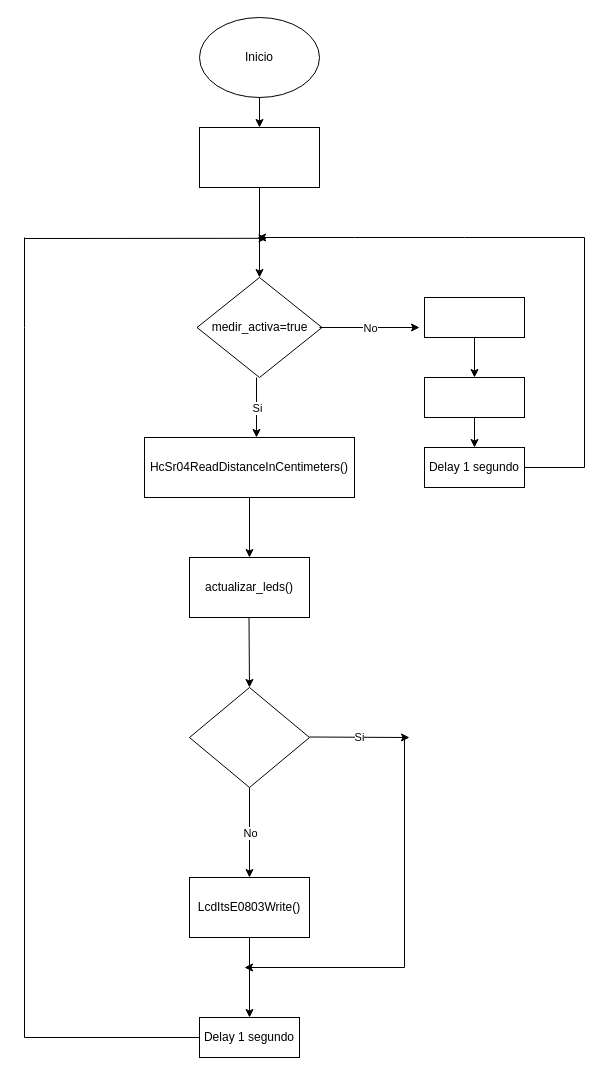
The diagram is 603 pixels wide and 1075 high, and some of its shapes have lost their labels. Each missing label, with the centre of its shape:
"hold_activo=True" belongs at point (249, 737).
"Inicialización" belongs at point (259, 157).
"LedsItsE0803Off()" belongs at point (474, 397).
"LedsOffAll()" belongs at point (474, 317).
